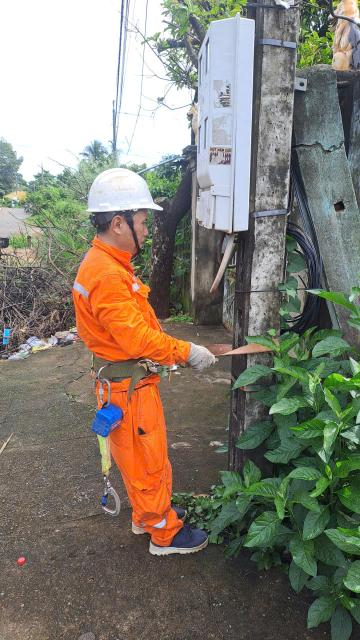gloves: (168, 332, 222, 381)
harness: (77, 341, 170, 400)
helmet: (77, 157, 164, 236)
shoes: (147, 516, 209, 558), (130, 501, 188, 534)
